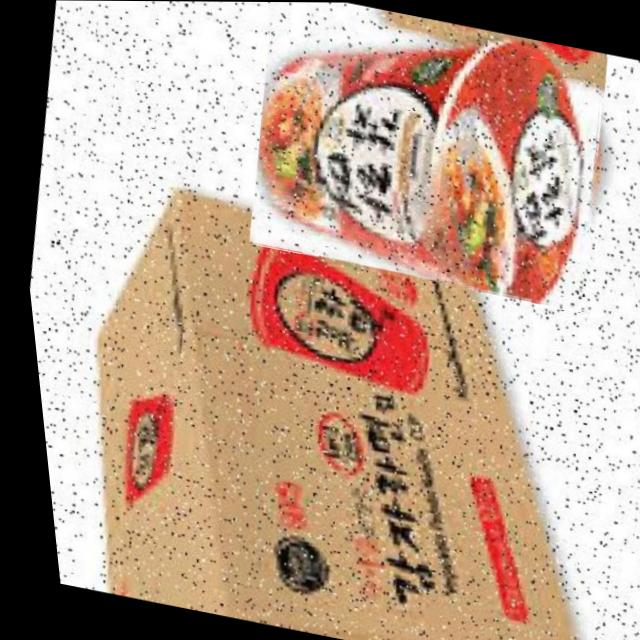Miscellaneous: (225, 2, 628, 312)
